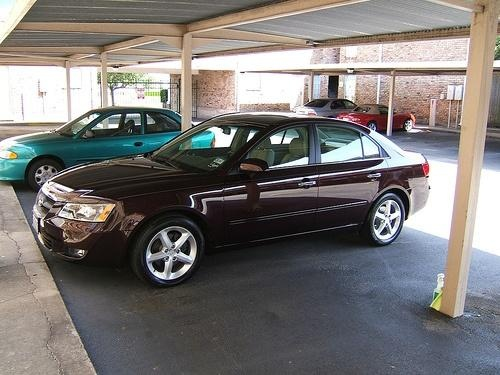car: (32, 112, 432, 291), (1, 106, 217, 194), (339, 104, 418, 133), (298, 99, 358, 118)
